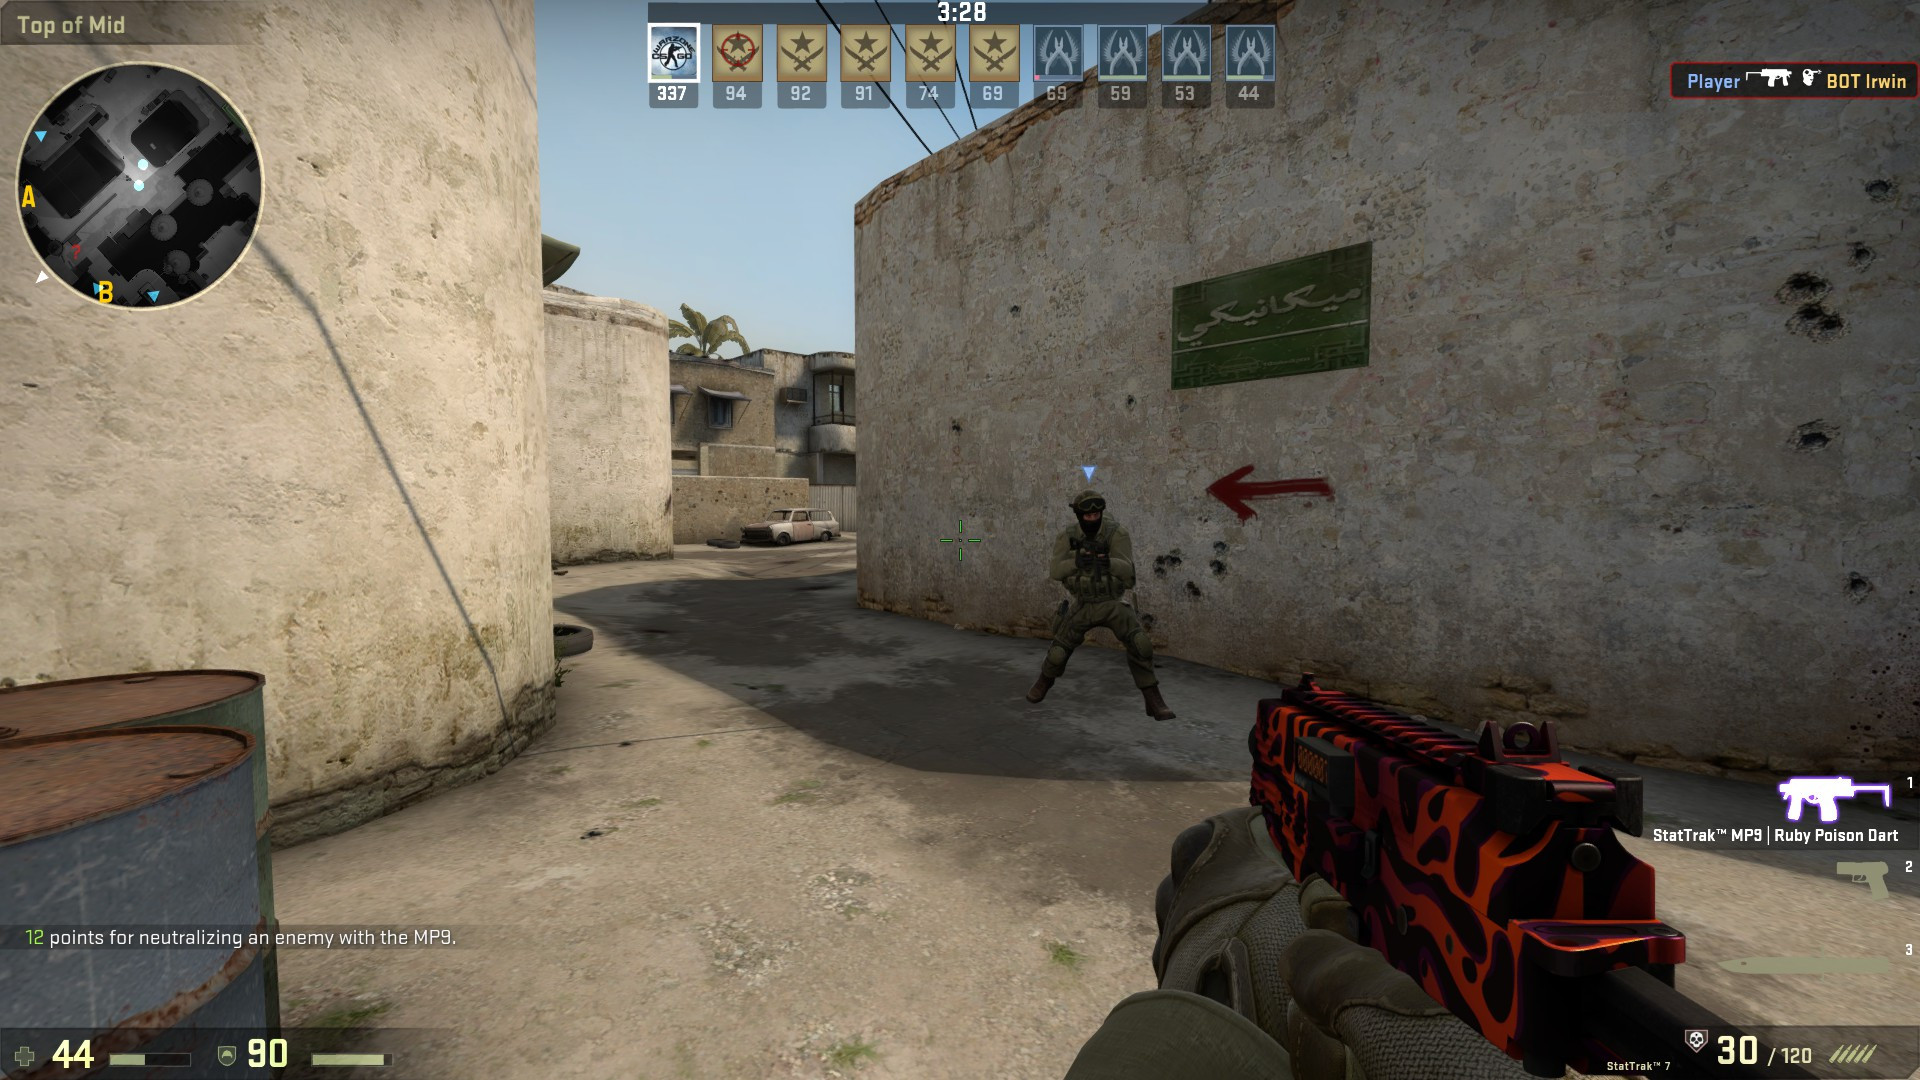c: (1036, 481, 1153, 712)
ch: (1060, 487, 1130, 547)
